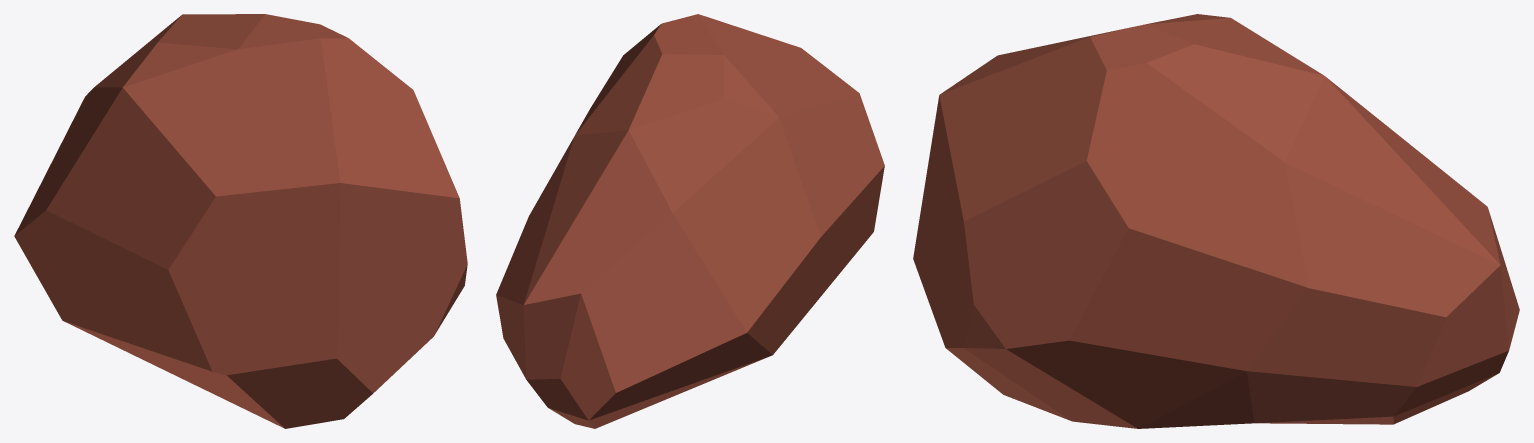
File: Rock_Large_002.fbx
The picture shows the model from 3 angles, left to right: view 1: azimuth 30°, elevation 25°; view 2: azimuth 150°, elevation 25°; view 3: azimuth 270°, elevation 25°; orthographic projection. The views are drawn at different scales.
Parts seen in each view (by area): view 1: Rock_Large_002; view 2: Rock_Large_002; view 3: Rock_Large_002.
Part boxes in pixels (box(x1,y1,x2,y2)): Rock_Large_002: box(14, 14, 467, 428); Rock_Large_002: box(496, 14, 884, 428); Rock_Large_002: box(913, 14, 1519, 428).
Bounding box in the file's own units: 1715 × 1776 × 2580.
